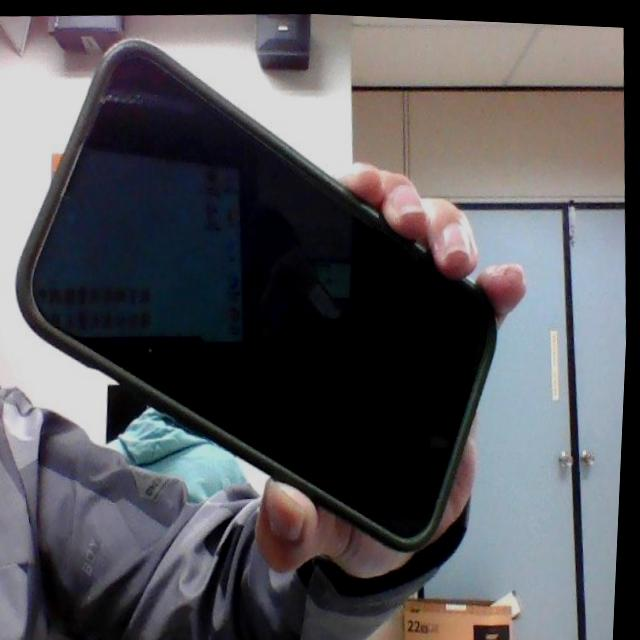Smartphone: (0, 20, 519, 569)
